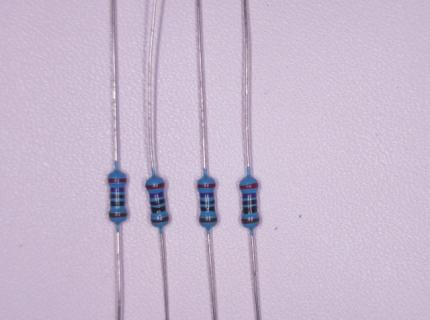Black band: (243, 205, 258, 214), (152, 205, 166, 213), (150, 198, 165, 205), (200, 199, 215, 205), (110, 201, 125, 206), (110, 194, 125, 199), (243, 200, 257, 205), (201, 206, 215, 211)
Brown band: (150, 215, 169, 223), (241, 217, 259, 224), (109, 212, 128, 218), (199, 217, 218, 223)
Red band: (239, 182, 258, 190), (146, 181, 165, 189), (197, 182, 216, 188), (108, 177, 127, 183)
Violet band: (150, 191, 164, 198), (200, 192, 214, 198), (242, 192, 256, 198), (110, 187, 125, 192)
